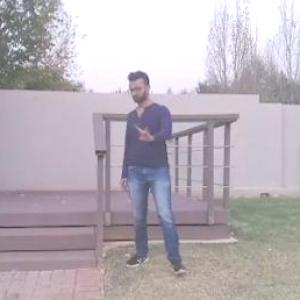takeoff-hand: (130, 116, 160, 148)
